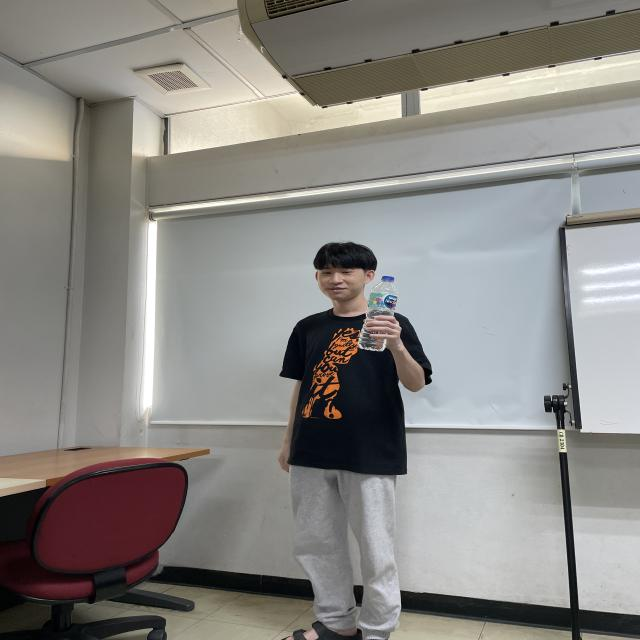bottle: (356, 274, 398, 352)
